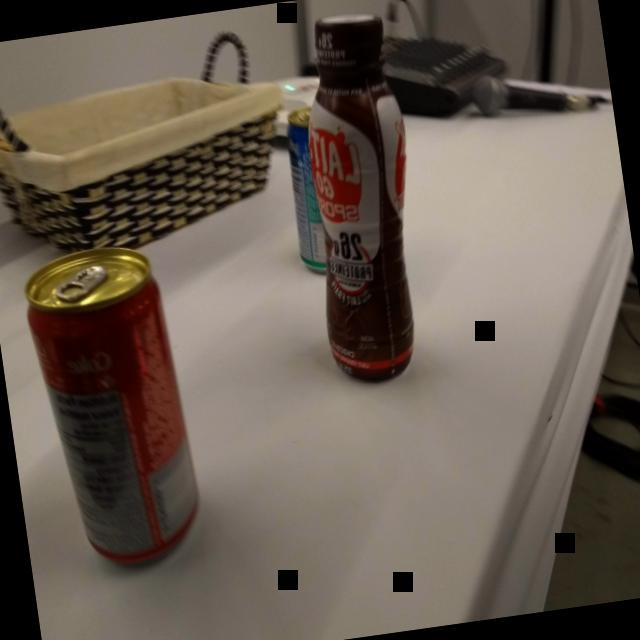basket: (0, 13, 304, 284)
chocolate_drink: (276, 5, 443, 395)
coke: (18, 237, 216, 588)
